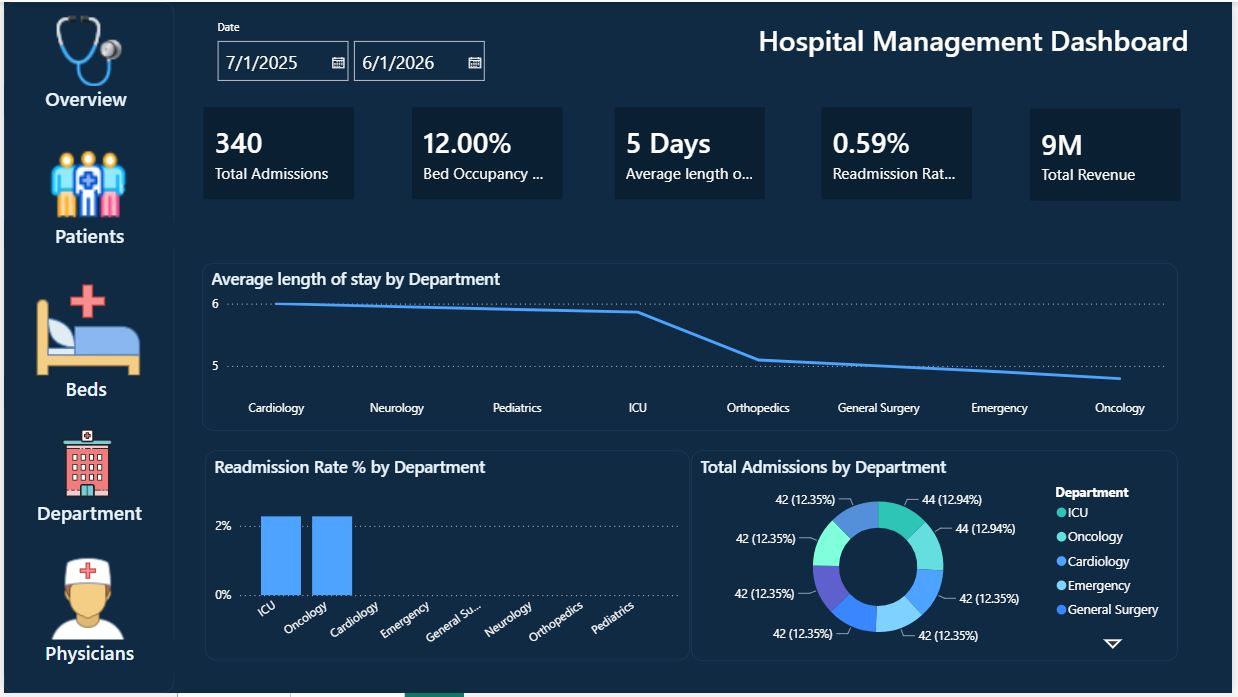

What the dashboard file says about the page in this screenshot:
{"tool":"powerbi","page":{"name":"Page 1","canvas":[1280,720],"ordinal":0},"visuals":[{"type":"shape","box":[0,0,177.6,720],"z":0},{"type":"textbox","title":"Hospital Management Dashboard","box":[740.8,0,538.6,91.9],"z":1000},{"type":"slicer","fields":{"Values":["Admissions.Admission_Date"]},"box":[209.6,14.7,307,79],"z":2000},{"type":"cardVisual","fields":{"Data":["Admissions.Total Patient Admissions"]},"box":[191.2,91.9,191.2,130.5],"z":3000},{"type":"cardVisual","fields":{"Data":["Admissions.Bed Occupancy Rate%"]},"box":[408.1,91.9,191.2,130.5],"z":4000},{"type":"cardVisual","fields":{"Data":["Admissions.ALS display"]},"box":[619.5,91.9,191.2,130.5],"z":5000},{"type":"cardVisual","fields":{"Data":["Admissions.Readmission Rate %"]},"box":[834.5,91.9,191.2,130.5],"z":6000},{"type":"cardVisual","fields":{"Data":["Diagnosis_Clinical.Total Revenue"]},"box":[1051.5,93.7,191.2,130.5],"z":7000},{"type":"lineChart","fields":{"Category":["Admissions.Department"],"Y":["Admissions.Average length of stay"]},"box":[205.9,272.1,1016.5,174.6],"z":8000},{"type":"columnChart","fields":{"Category":["Admissions.Department"],"Y":["Admissions.Readmission Rate %"]},"box":[209.6,466.9,505.5,218.7],"z":9000},{"type":"donutChart","fields":{"Category":["Admissions.Department"],"Y":["Admissions.Total Admissions"]},"box":[716,467,507,219],"z":10000},{"type":"image","box":[12.9,11,148.9,80.9],"z":11000},{"type":"textbox","title":"Overview","box":[0,88.2,171,29.4],"z":12000},{"type":"image","box":[11,141.5,154.4,95.6],"z":13000},{"type":"textbox","title":"Patients","box":[0,229.8,178.3,27.6],"z":14000},{"type":"image","box":[12.9,284.9,148.9,112.1],"z":15000},{"type":"textbox","title":"Beds","box":[0,389.7,171,33.1],"z":16000},{"type":"image","box":[12.9,443,148.9,86.4],"z":17000},{"type":"textbox","title":"Department","box":[5.5,518.4,165.4,31.2],"z":18000},{"type":"image","box":[9.2,577.2,156.2,97.4],"z":19000},{"type":"textbox","title":"Physicians","box":[0,663.6,178.3,34.9],"z":20000}]}

Visuals, with their boxes in screenshot pixels (x1, y1, x2, y2), scaled from the page's 1280x720 canvas onto the 1238x697 screenshot:
shape: BBox(0, 0, 172, 696)
"Hospital Management Dashboard" textbox: BBox(716, 0, 1237, 89)
slicer - Admissions.Admission_Date: BBox(203, 14, 500, 91)
cardVisual - Admissions.Total Patient Admissions: BBox(185, 89, 370, 215)
cardVisual - Admissions.Bed Occupancy Rate%: BBox(395, 89, 580, 215)
cardVisual - Admissions.ALS display: BBox(599, 89, 784, 215)
cardVisual - Admissions.Readmission Rate %: BBox(807, 89, 992, 215)
cardVisual - Diagnosis_Clinical.Total Revenue: BBox(1017, 91, 1202, 217)
lineChart - Admissions.Department x Admissions.Average length of stay: BBox(199, 263, 1182, 432)
columnChart - Admissions.Department x Admissions.Readmission Rate %: BBox(203, 452, 692, 664)
donutChart - Admissions.Department x Admissions.Total Admissions: BBox(693, 452, 1183, 664)
image: BBox(12, 11, 156, 89)
"Overview" textbox: BBox(0, 85, 165, 114)
image: BBox(11, 137, 160, 230)
"Patients" textbox: BBox(0, 222, 172, 249)
image: BBox(12, 276, 156, 384)
"Beds" textbox: BBox(0, 377, 165, 409)
image: BBox(12, 429, 156, 512)
"Department" textbox: BBox(5, 502, 165, 532)
image: BBox(9, 559, 160, 653)
"Physicians" textbox: BBox(0, 642, 172, 676)
